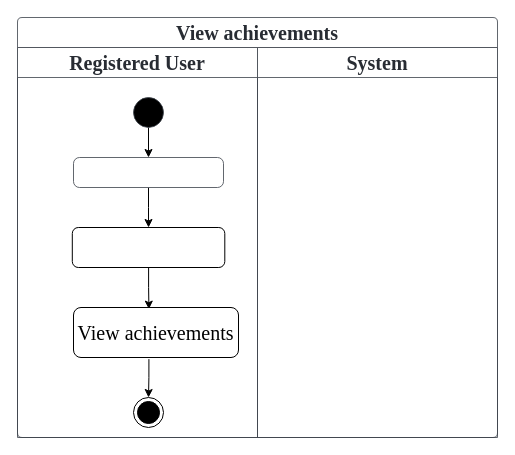
Some shapes in this 515 by 455 pixel diagram are drawn without their labels. The shapes that lost their labels are listed below. From the top down, each one's centre as x and y in pixels, then its label:
point (148, 172): Sign in
point (148, 247): Go to my achivements
